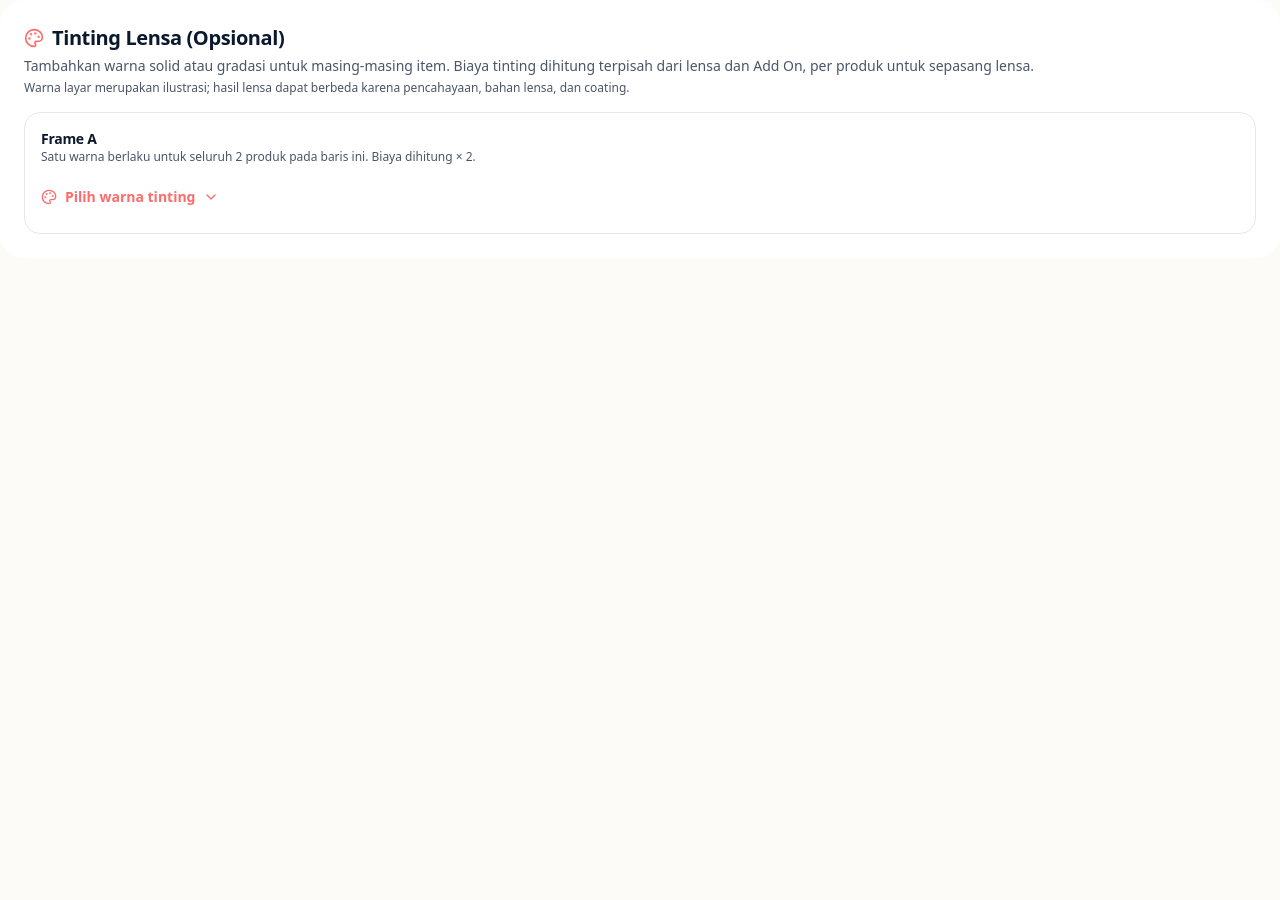
Test case: failed or uncertain saves keep checkout dirty until retry succeeds
Later steps or results of the test are not shown.
Click the button with test id "choose-tinting-a" at (130, 197), box [41,177,220,217]
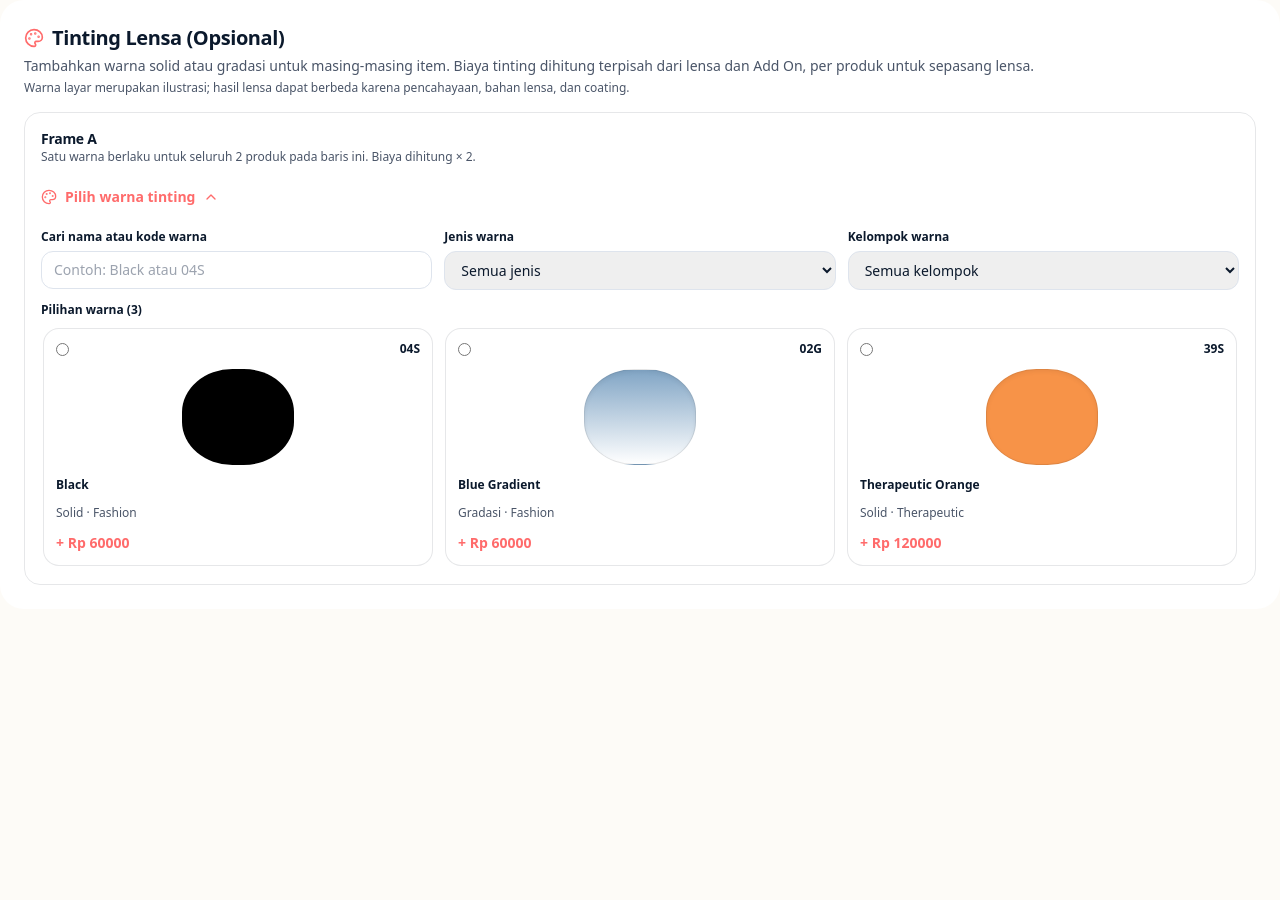
Click the radio button labelled "04S Black Solid · Fashion + Rp 60000" at (62, 349), box [56,342,69,356]
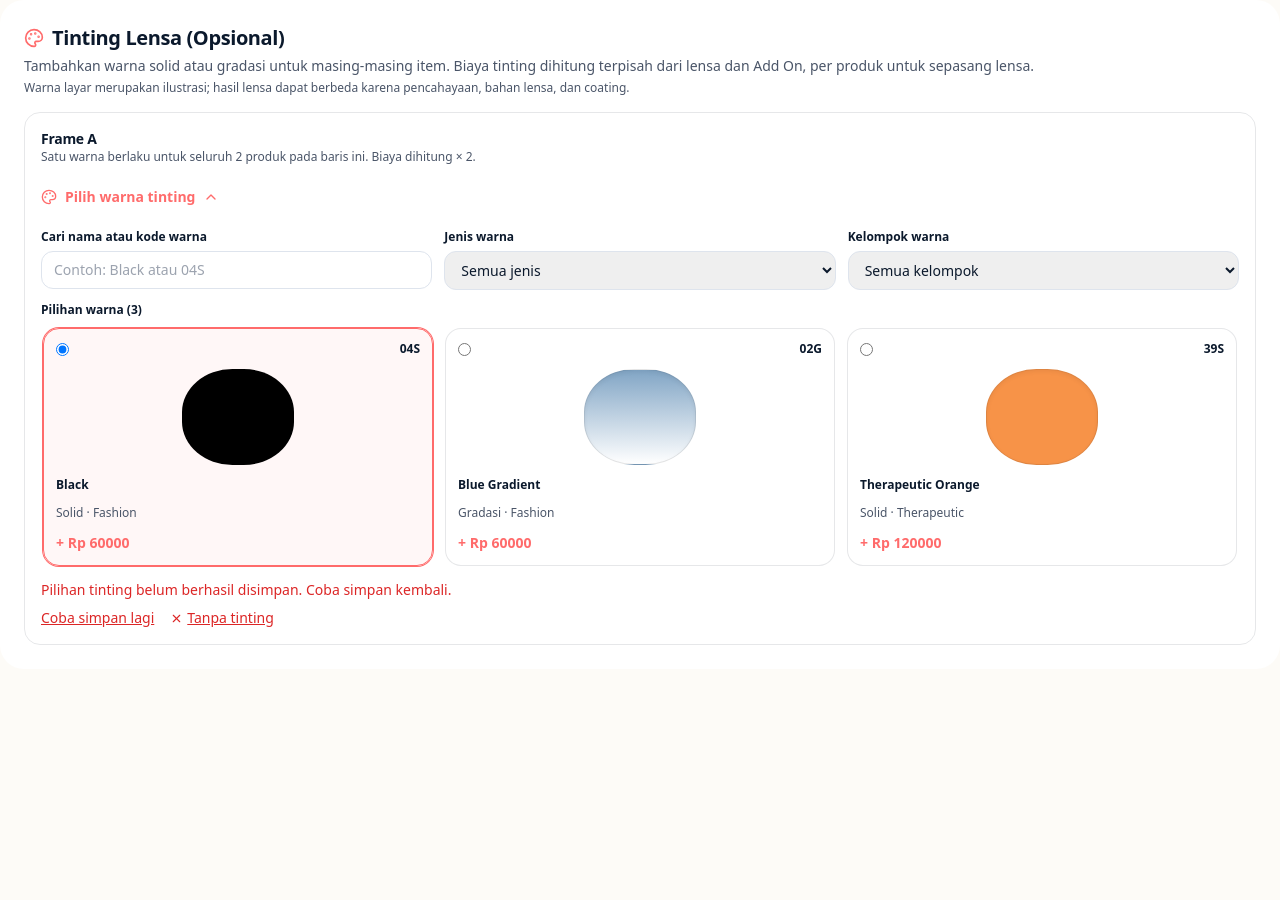
Now the message is shown, box [41,580,452,628]
